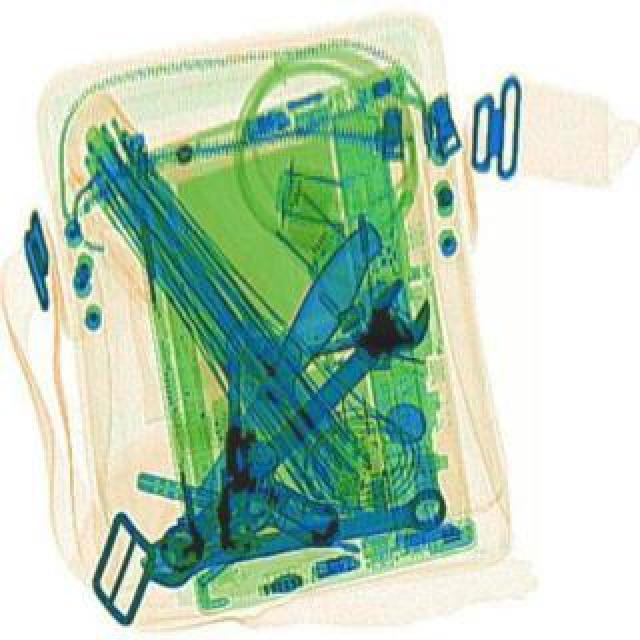gun: (212, 334, 346, 548)
knife: (172, 212, 392, 528)
scissors: (146, 272, 446, 584), (136, 484, 452, 592)
